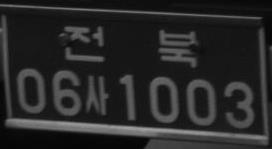0: (148, 75, 179, 123), (185, 78, 216, 126), (16, 66, 46, 114)
1: (115, 73, 140, 120)
3: (223, 80, 255, 129)
6: (51, 69, 82, 117)
사: (84, 74, 108, 115)
전북_D: (63, 24, 198, 68)
